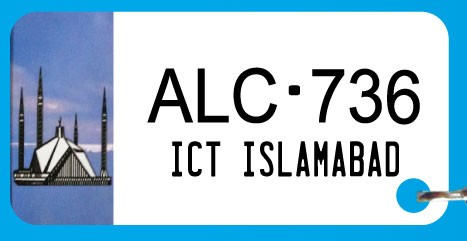3: (348, 62, 386, 125)
6: (384, 60, 424, 127)
7: (308, 63, 346, 125)
A: (144, 64, 195, 125), (294, 138, 312, 178), (367, 138, 384, 178), (331, 139, 348, 178)
B: (347, 138, 366, 179)
C: (230, 62, 281, 125), (184, 138, 205, 178)
D: (382, 139, 402, 179)
I: (240, 138, 257, 178), (170, 138, 186, 178)
L: (192, 64, 232, 126), (275, 138, 294, 178)
M: (312, 138, 331, 178)
S: (257, 139, 276, 178)
T: (204, 138, 223, 178)
